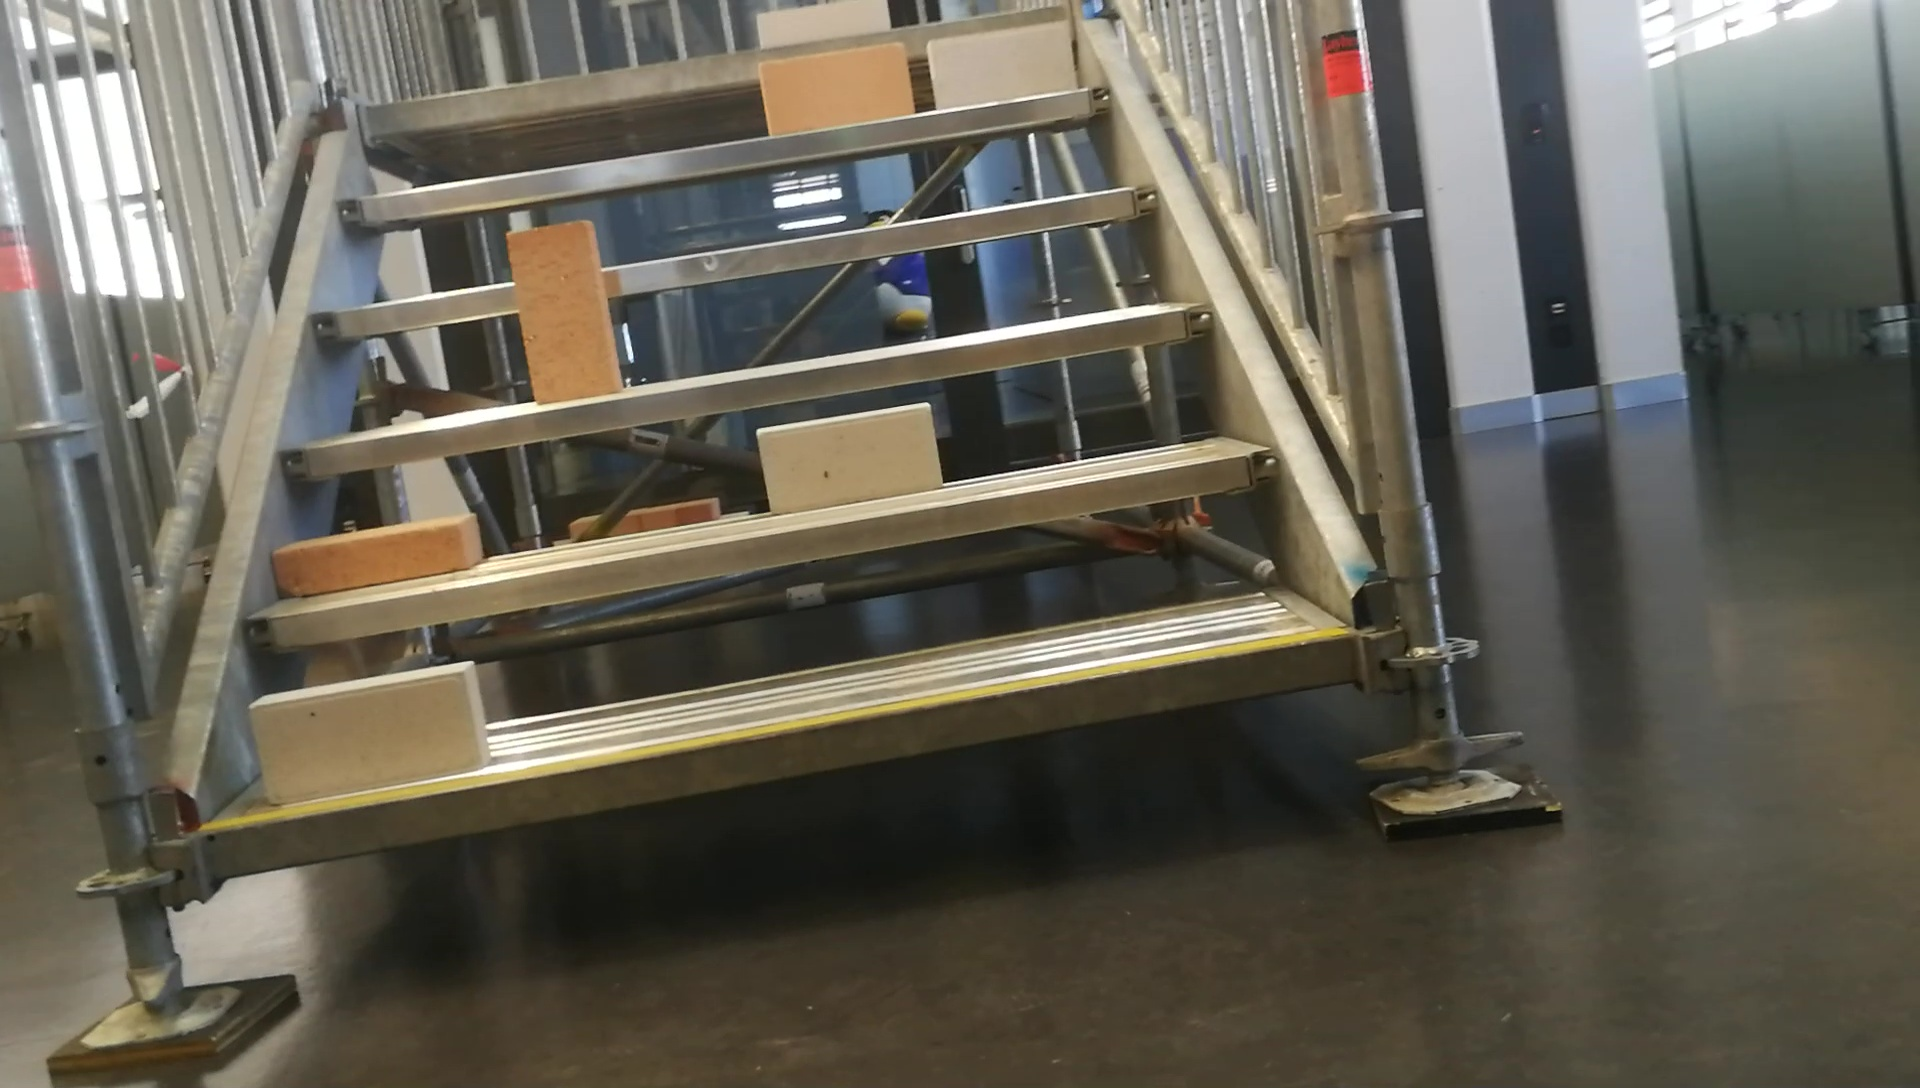brick: (251, 662, 487, 803), (508, 220, 622, 404), (760, 402, 938, 510), (274, 514, 477, 597), (760, 42, 910, 133), (928, 18, 1075, 108), (754, 3, 887, 44)
edge: (195, 630, 1352, 874), (245, 444, 1267, 642), (287, 307, 1207, 479), (313, 182, 1163, 332), (340, 86, 1127, 218)
stairs: (53, 3, 1563, 1072)
steps: (182, 3, 1365, 888)
